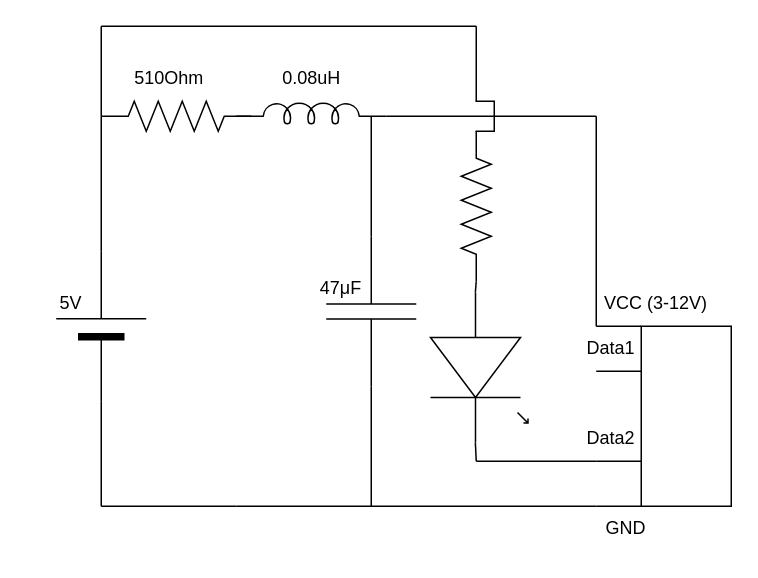
Image size: 758x578. Some labels were removed from this diagram. Here are the shapes that lost their labels. From the top down, the box of each, then its label:
(460, 130, 491, 281): 510Ohm
(640, 325, 731, 506): MX-RM-5V
